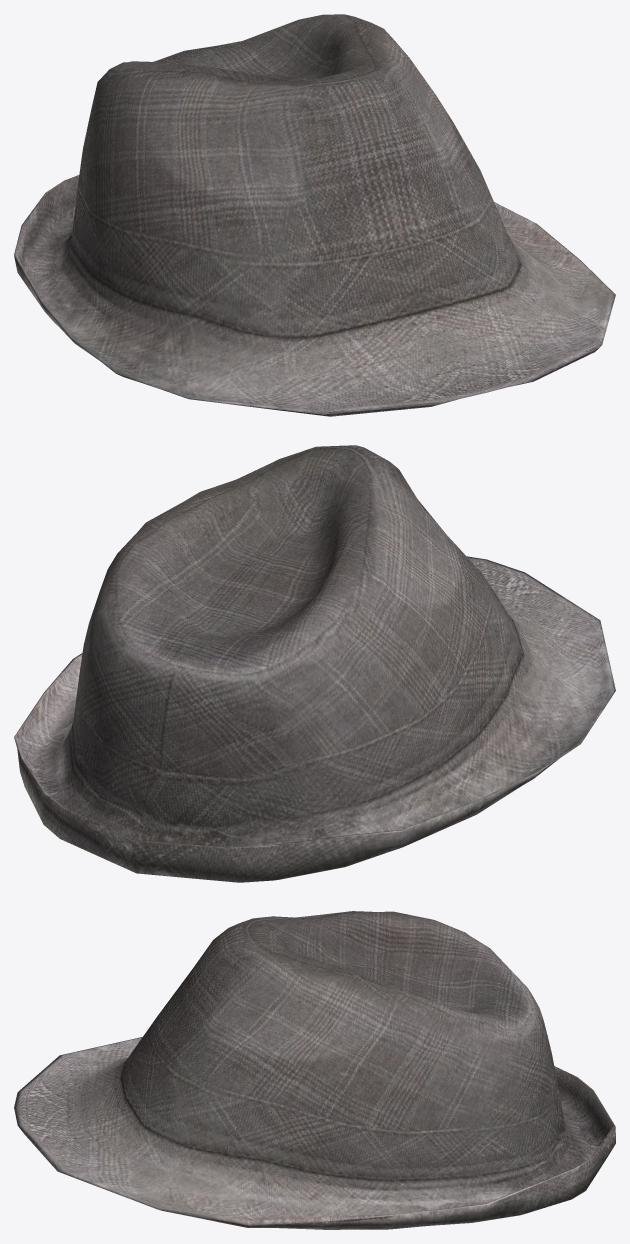
File: fedora01.glb
3 renders of one model, top to bottom at view 1: azimuth 30°, elevation 25°; view 2: azimuth 150°, elevation 25°; view 3: azimuth 270°, elevation 25°, orthographic. The views are drawn at different scales.
Visible parts, largest first — view 1: Human.fedora01; view 2: Human.fedora01; view 3: Human.fedora01.
Part boxes in pixels (x1,y1,x2,y2): Human.fedora01: (14, 14, 615, 416); Human.fedora01: (14, 445, 615, 882); Human.fedora01: (14, 911, 615, 1229).
Size of the model in its own units: 0.1877 by 0.1057 by 0.2483.
Materials: 1 (1 with a texture image).
